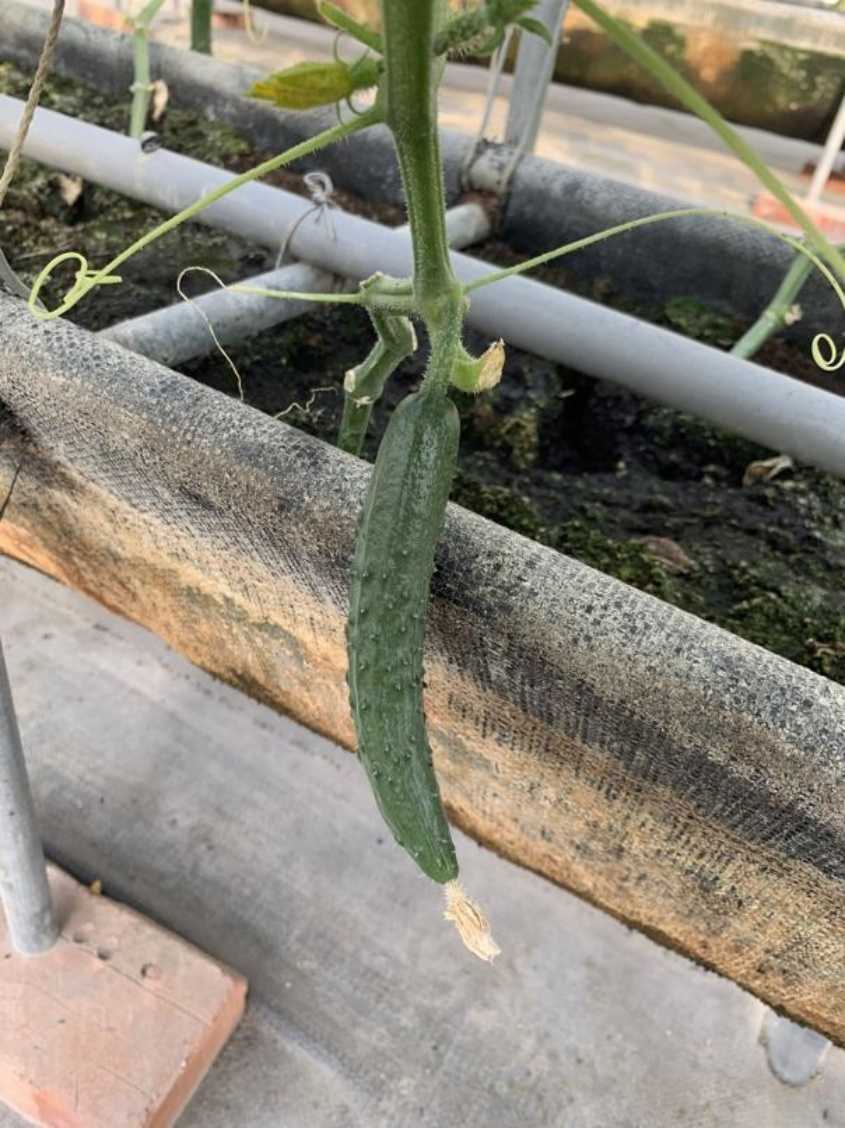growth: (320, 384, 485, 929)
